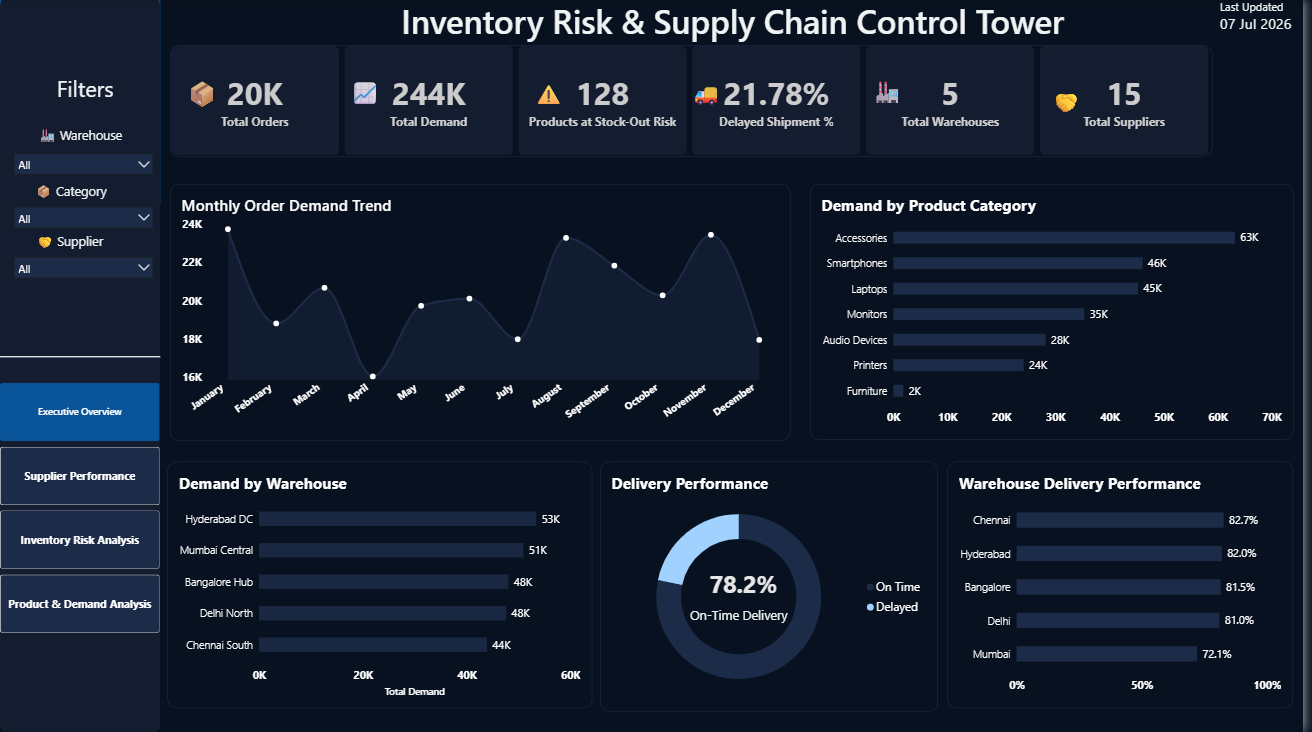

Layout of this report page (visuals, bound fields, positions):
{"tool":"powerbi","page":{"name":"Executive Overview","canvas":[1920,1080],"ordinal":0},"visuals":[{"type":"shape","box":[0,0,235.9,300.8],"z":0},{"type":"shape","box":[0,0,235.9,1079.9],"z":1000},{"type":"textbox","box":[590.8,0,1047.4,82.2],"z":2000},{"type":"cardVisual","fields":{"Data":["Dax measure.Total Orders","Dax measure.Total Demand","Dax measure.Stock out risk","Dax measure.Delayed Shipment %","Dax measure.Total Warehouse","Dax measure.Total Suppliers"]},"box":[250.3,68.1,1535,163.8],"z":3000},{"type":"areaChart","title":"Monthly Order  Demand Trend","fields":{"Category":["Date.Date.Variation.Date Hierarchy.Month"],"Y":["Dax measure.Total Demand"]},"box":[251,272.7,913.3,378.7],"z":4000},{"type":"barChart","title":" Demand by Product Category","fields":{"Category":["Products.Category"],"Y":["Dax measure.Total Demand"]},"box":[1192.4,272.7,712,376.6],"z":5000},{"type":"barChart","title":" Demand by Warehouse","fields":{"Category":["Warehouses.Warehouse_Name"],"Y":["Dax measure.Total Demand"]},"box":[246.7,681.7,625.4,363.6],"z":6000},{"type":"donutChart","title":"Delivery Performance","fields":{"Category":["Shipments.Delivery_Status"],"Y":["CountNonNull(Shipments.Product_ID)"]},"box":[883,681.7,497.8,367.9],"z":7000},{"type":"cardVisual","fields":{"Data":["Dax measure.On Time %"]},"box":[1031.9,827.1,129.8,67.1],"z":8000},{"type":"textbox","box":[1016.7,894.2,153.7,39],"z":9000},{"type":"slicer","fields":{"Values":["Warehouses.Warehouse_Name"]},"box":[0,207.8,246.7,73.6],"z":10000},{"type":"slicer","fields":{"Values":["Products.Category"]},"box":[0,287.8,246.7,73.6],"z":11000},{"type":"slicer","fields":{"Values":["Shipments.Supplier_ID"]},"box":[0,361.4,246.7,101.7],"z":12000},{"type":"textbox","box":[56.3,188.3,134.2,41.1],"z":13000},{"type":"textbox","box":[51.9,270.5,134.2,34.6],"z":14000},{"type":"textbox","box":[54.1,344.1,134.2,34.6],"z":15000},{"type":"textbox","box":[272.4,92,55.2,71.8],"z":16000},{"type":"textbox","box":[515.3,93.9,57.1,69.9],"z":17000},{"type":"textbox","box":[785.9,93.9,55.2,71.8],"z":18000},{"type":"textbox","box":[1017.8,95.7,57.1,75.5],"z":19000},{"type":"textbox","box":[1285.5,114.7,56.3,49.8],"z":20000},{"type":"textbox","box":[1547.9,127,57.1,60.7],"z":21000},{"type":"pageNavigator","box":[0,565,235.6,368.1],"z":22000},{"type":"barChart","title":"Warehouse Delivery Performance ","fields":{"Y":["Dax measure.On Time %"],"Category":["Suppliers.Region"]},"box":[1395.9,681.7,508.6,363.6],"z":23000},{"type":"textbox","box":[19.5,110.4,209.9,60.6],"z":24000},{"type":"shape","box":[0,486.9,235.9,77.9],"z":25000},{"type":"textbox","box":[1796.3,0,123.3,71.8],"z":25001}]}

Visuals, with their boxes in screenshot pixels (x1, y1, x2, y2), scaled from the page's 1920x1080 canvas onto the 1312x732 screenshot:
shape: BBox(0, 0, 161, 204)
shape: BBox(0, 0, 161, 731)
textbox: BBox(404, 0, 1119, 56)
cardVisual - Dax measure.Total Orders x Dax measure.Total Demand: BBox(171, 46, 1220, 157)
"Monthly Order  Demand Trend" areaChart: BBox(172, 185, 796, 442)
" Demand by Product Category" barChart: BBox(815, 185, 1301, 440)
" Demand by Warehouse" barChart: BBox(169, 462, 596, 708)
"Delivery Performance" donutChart: BBox(603, 462, 944, 711)
cardVisual - Dax measure.On Time %: BBox(705, 561, 794, 606)
textbox: BBox(695, 606, 800, 633)
slicer - Warehouses.Warehouse_Name: BBox(0, 141, 169, 191)
slicer - Products.Category: BBox(0, 195, 169, 245)
slicer - Shipments.Supplier_ID: BBox(0, 245, 169, 314)
textbox: BBox(38, 128, 130, 155)
textbox: BBox(35, 183, 127, 207)
textbox: BBox(37, 233, 129, 257)
textbox: BBox(186, 62, 224, 111)
textbox: BBox(352, 64, 391, 111)
textbox: BBox(537, 64, 575, 112)
textbox: BBox(695, 65, 735, 116)
textbox: BBox(878, 78, 917, 111)
textbox: BBox(1058, 86, 1097, 127)
pageNavigator: BBox(0, 383, 161, 632)
"Warehouse Delivery Performance " barChart: BBox(954, 462, 1301, 708)
textbox: BBox(13, 75, 157, 116)
shape: BBox(0, 330, 161, 383)
textbox: BBox(1227, 0, 1311, 49)
